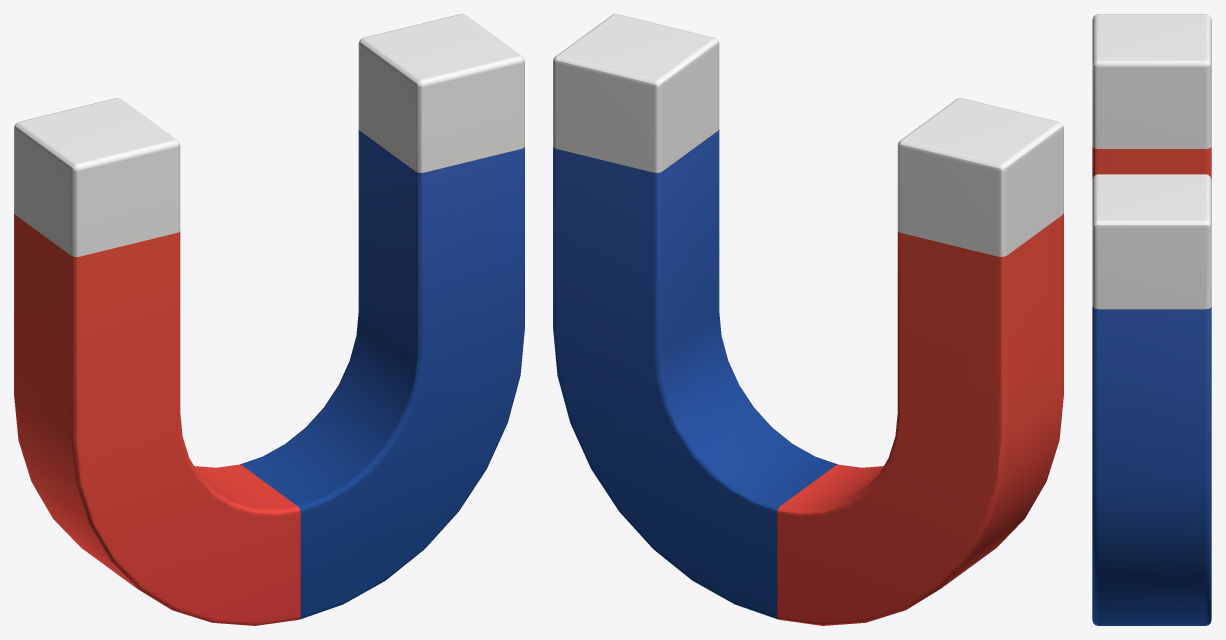
The model's file is Magnet (1).fbx.
The picture shows the model from 3 angles, left to right: view 1: azimuth 30°, elevation 25°; view 2: azimuth 150°, elevation 25°; view 3: azimuth 270°, elevation 25°; orthographic projection. The views are drawn at different scales.
Visible parts, largest first — view 1: Magnet; view 2: Magnet; view 3: Magnet.
Part boxes in pixels (x1,y1,x2,y2): Magnet: [14, 14, 524, 625]; Magnet: [553, 14, 1063, 625]; Magnet: [1092, 14, 1211, 625].
Size of the model in its own units: 209 by 225 by 50.
Materials: 1 (1 with a texture image).
